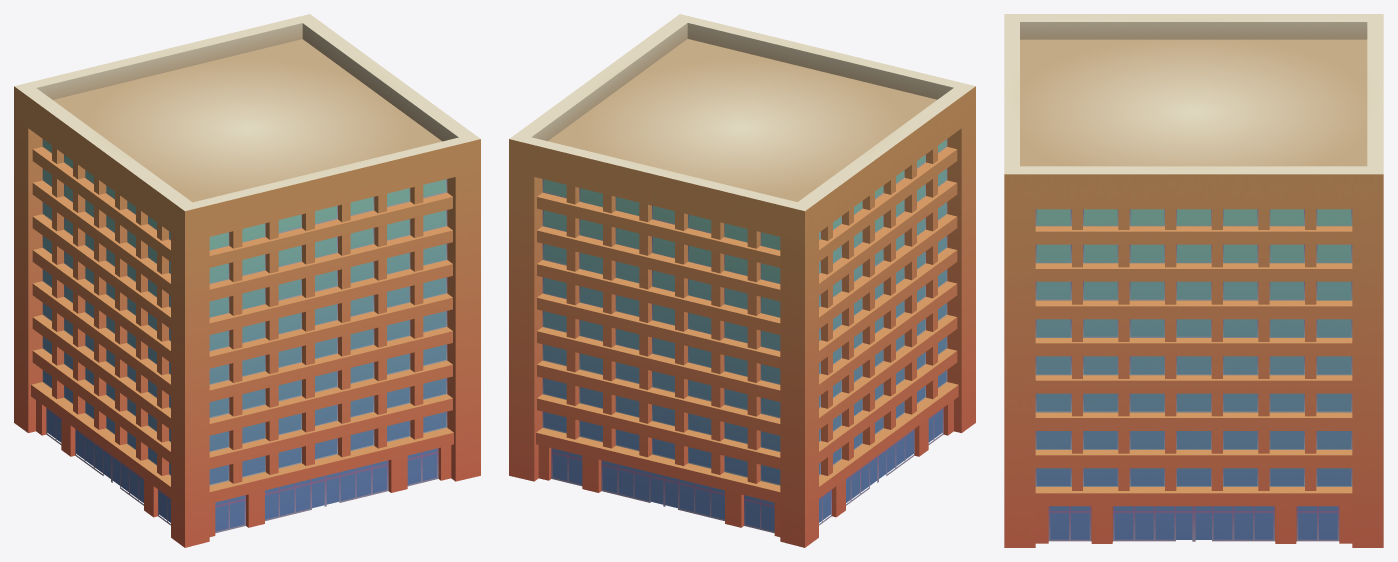
The picture shows the model from 3 angles, left to right: view 1: azimuth 30°, elevation 25°; view 2: azimuth 150°, elevation 25°; view 3: azimuth 270°, elevation 25°; orthographic projection. The views are drawn at different scales.
Visible parts, largest first — view 1: SM_9F_05; view 2: SM_9F_05; view 3: SM_9F_05.
Part boxes in pixels (x1,y1,x2,y2): SM_9F_05: (14, 14, 480, 547); SM_9F_05: (509, 14, 975, 547); SM_9F_05: (1004, 14, 1383, 547).
Bounding box in the file's own units: 28.05 × 28.05 × 30.51.
